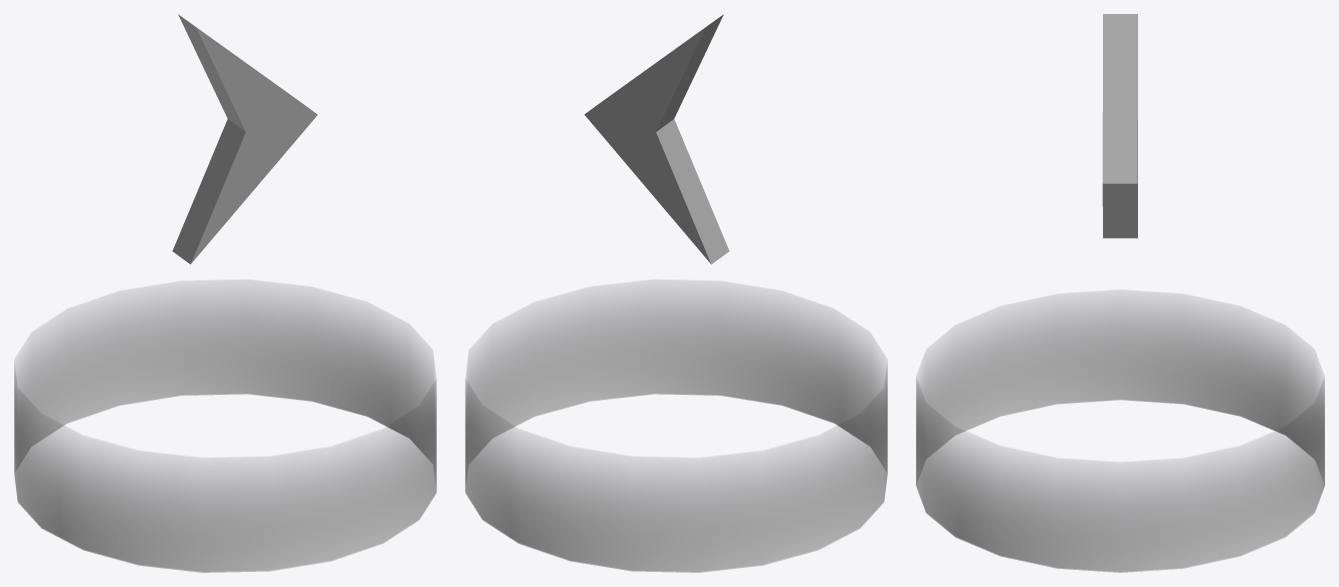
The model's file is circle & Arrow.fbx.
3 views of the same model, side by side, from view 1: azimuth 30°, elevation 25°; view 2: azimuth 150°, elevation 25°; view 3: azimuth 270°, elevation 25° (orthographic). The views are drawn at different scales.
Parts seen in each view (by area): view 1: circle3, arrow; view 2: circle3, arrow; view 3: circle3, arrow.
Boxes of the visible parts, x1,y1,x2,y2 form: circle3: (14,283,436,572); arrow: (172,14,317,264); circle3: (465,283,887,572); arrow: (584,14,729,264); circle3: (916,293,1324,572); arrow: (1102,14,1137,238).
Size of the model in its own units: 117 by 143 by 117.
2 materials, 1 textured.
